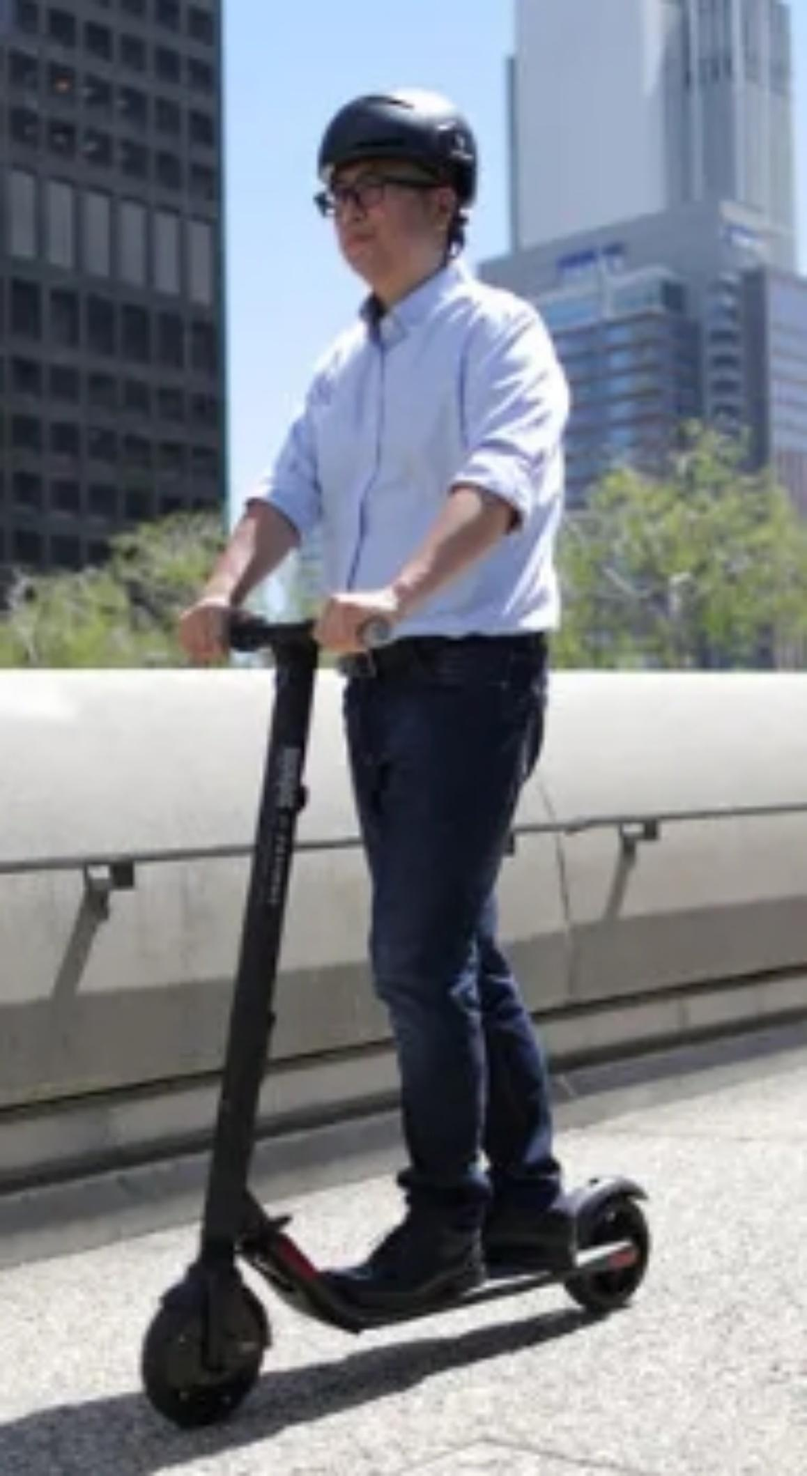helmet: (301, 95, 479, 302)
human: (179, 91, 588, 1255)
kickboard: (115, 1168, 669, 1411)
